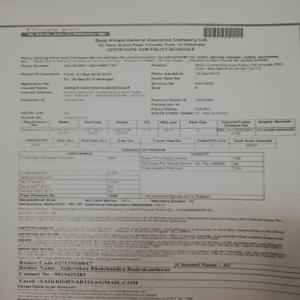image: (19, 26, 109, 37)
table: (19, 149, 266, 201), (17, 117, 296, 150)
text: (17, 52, 285, 118), (17, 204, 286, 261), (93, 37, 208, 52)
